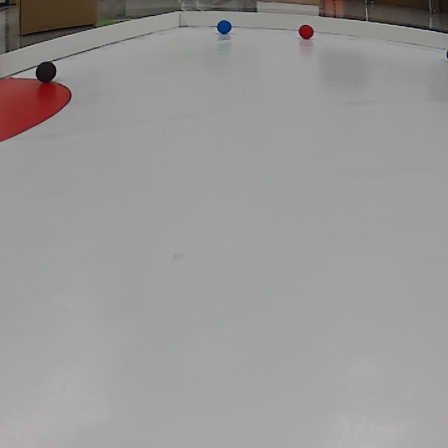black: (33, 61, 61, 83)
blue: (214, 20, 234, 36)
red: (298, 25, 316, 42)
red_base: (0, 73, 76, 147)
